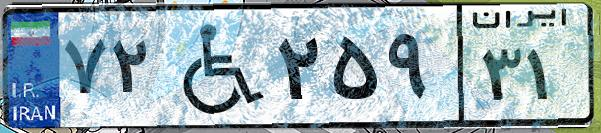1: (525, 38, 570, 115)
2: (270, 28, 330, 110), (110, 28, 158, 98)
3: (475, 38, 525, 113)
5: (330, 28, 385, 110)
7: (57, 26, 110, 100)
9: (385, 28, 445, 110)
ژ (معلولین و جانبازان): (158, 12, 270, 120)
